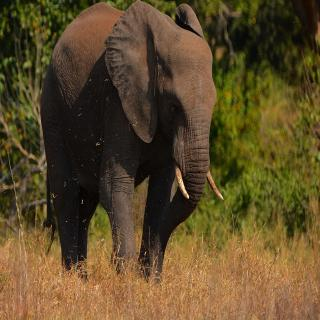Elephant: (37, 0, 234, 289)
